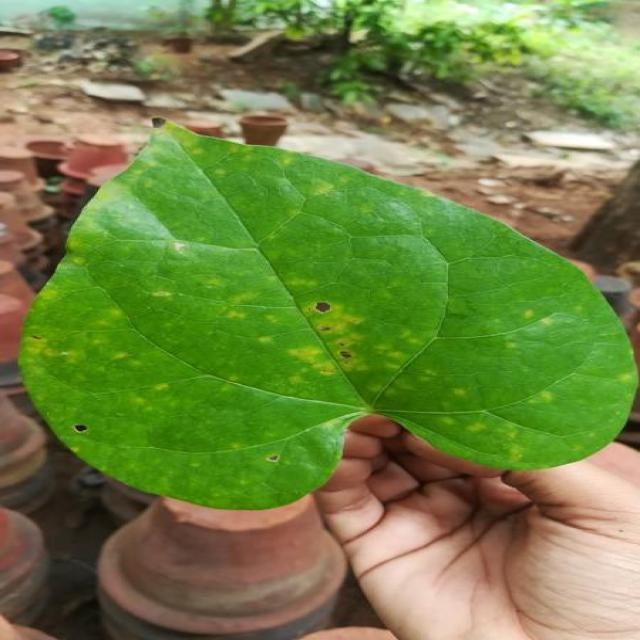Amruthaballi: (22, 122, 637, 508)
defectedAmruthaballi: (168, 216, 448, 403)
